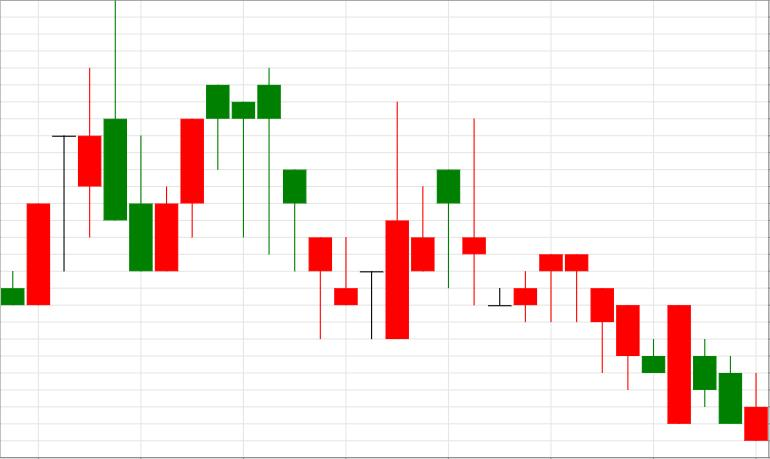bullish_engulfing_rise: (539, 255, 691, 424)
hammer_rise: (206, 66, 332, 339)
hanging_man_fall: (334, 101, 461, 339)
